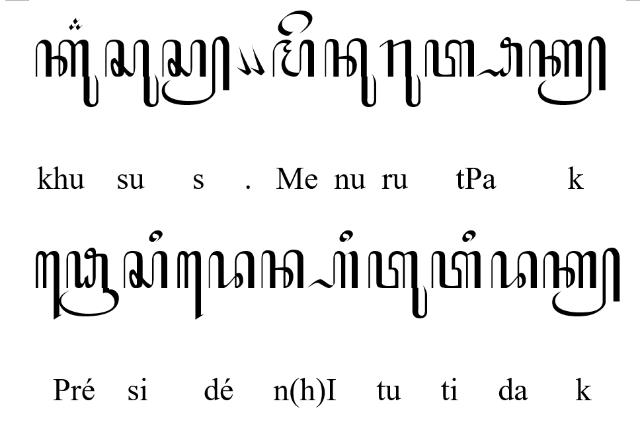-k: (528, 36, 606, 106), (542, 247, 620, 317)
-s: (162, 36, 230, 106)
Pr: (60, 247, 119, 317)
_P: (476, 36, 524, 78)
_h: (306, 250, 358, 290)
alt: (69, 18, 83, 31)
d: (208, 250, 256, 290), (490, 251, 538, 289)
e: (277, 10, 313, 36)
e1: (34, 251, 62, 321), (176, 250, 204, 320)
i: (148, 229, 164, 243), (339, 229, 353, 243), (462, 229, 476, 243)
kom: (235, 45, 252, 76), (249, 44, 265, 76)
ku: (35, 38, 99, 108)
m: (272, 39, 314, 77)
n: (260, 250, 304, 290)
nu: (324, 37, 378, 107)
ru: (379, 38, 421, 108)
s: (124, 251, 168, 289)
su: (104, 40, 160, 108)
t: (424, 38, 474, 78), (431, 251, 481, 289)
tu: (367, 250, 428, 318)
